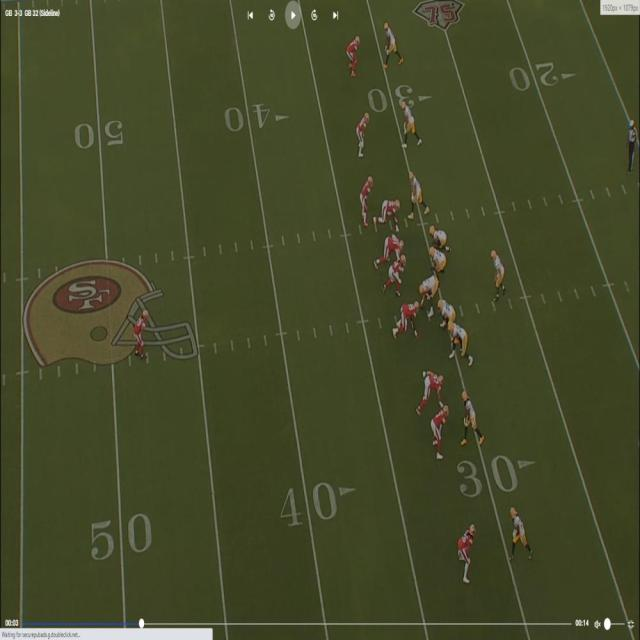center: (416, 272, 438, 300)
db: (432, 406, 448, 459), (462, 523, 477, 577), (134, 308, 148, 354), (349, 35, 362, 76), (356, 115, 367, 154)
lb: (360, 179, 372, 225), (391, 258, 405, 292)
qb: (491, 250, 505, 306)
skill: (464, 390, 482, 445), (401, 95, 418, 145), (383, 21, 400, 64), (513, 511, 531, 551), (409, 171, 423, 213)
